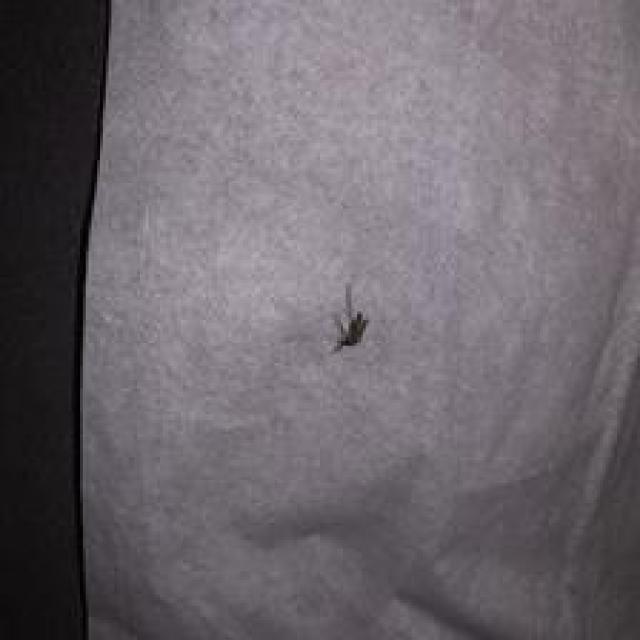Culex: (330, 281, 370, 353)
